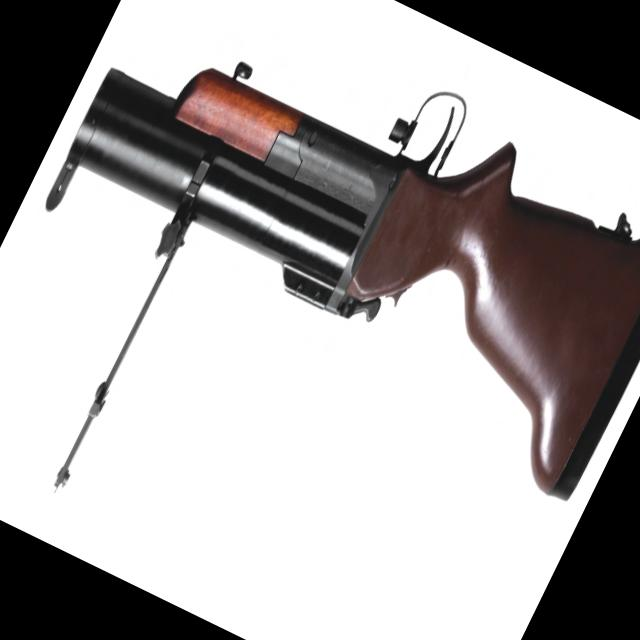Weapon: (1, 0, 640, 531)
